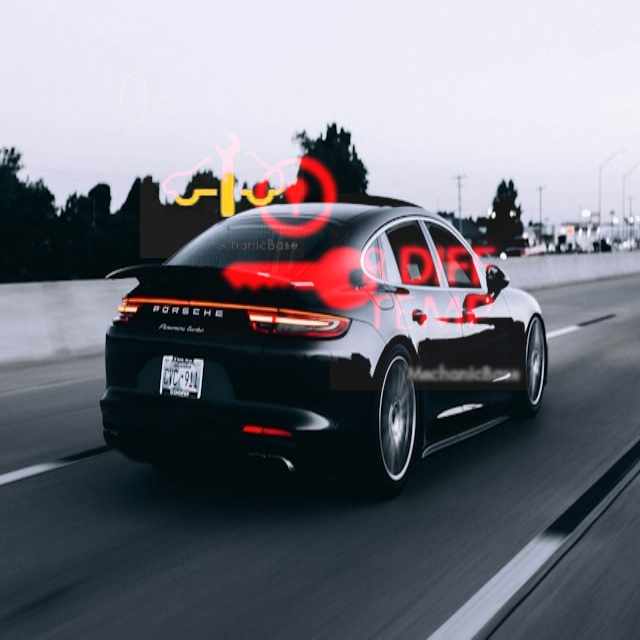symbol: (193, 126, 409, 342), (330, 193, 527, 390), (140, 94, 304, 258), (87, 36, 210, 159)
